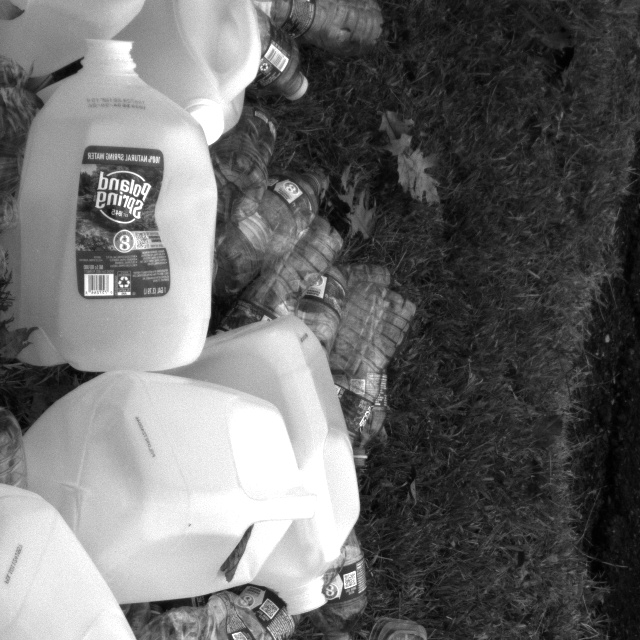bottle: (229, 182, 369, 354), (205, 149, 356, 272), (311, 256, 406, 434), (215, 32, 320, 122)
can: (0, 18, 214, 394), (16, 363, 302, 608), (185, 308, 369, 620), (125, 0, 261, 163), (0, 482, 140, 640), (0, 0, 148, 82)
container: (0, 3, 62, 347)
